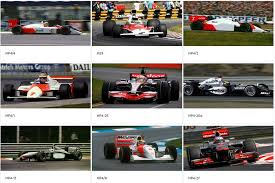FormulaOneCar: (98, 67, 179, 106), (1, 70, 88, 104), (187, 128, 260, 167), (182, 74, 274, 102), (101, 132, 179, 165), (188, 12, 268, 38), (103, 9, 170, 40), (12, 141, 85, 166), (6, 15, 83, 38)
